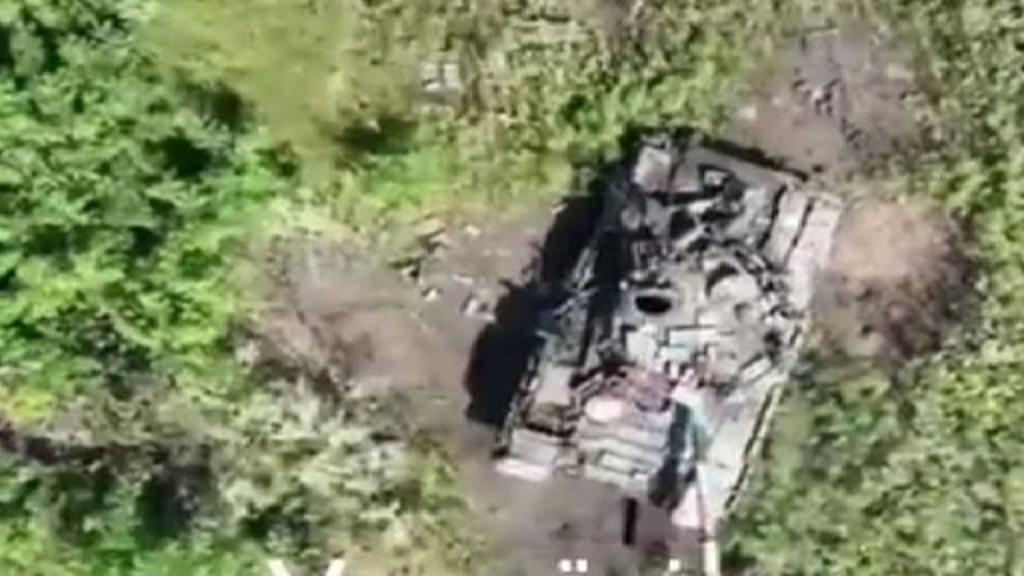TANK: (482, 124, 856, 556)
